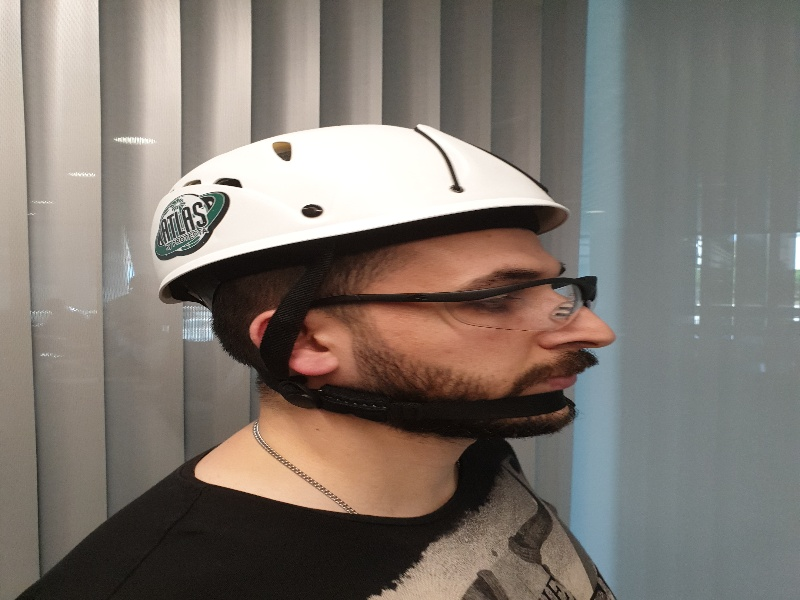Baret: (149, 125, 572, 268)
Gozluk: (327, 276, 599, 331)
